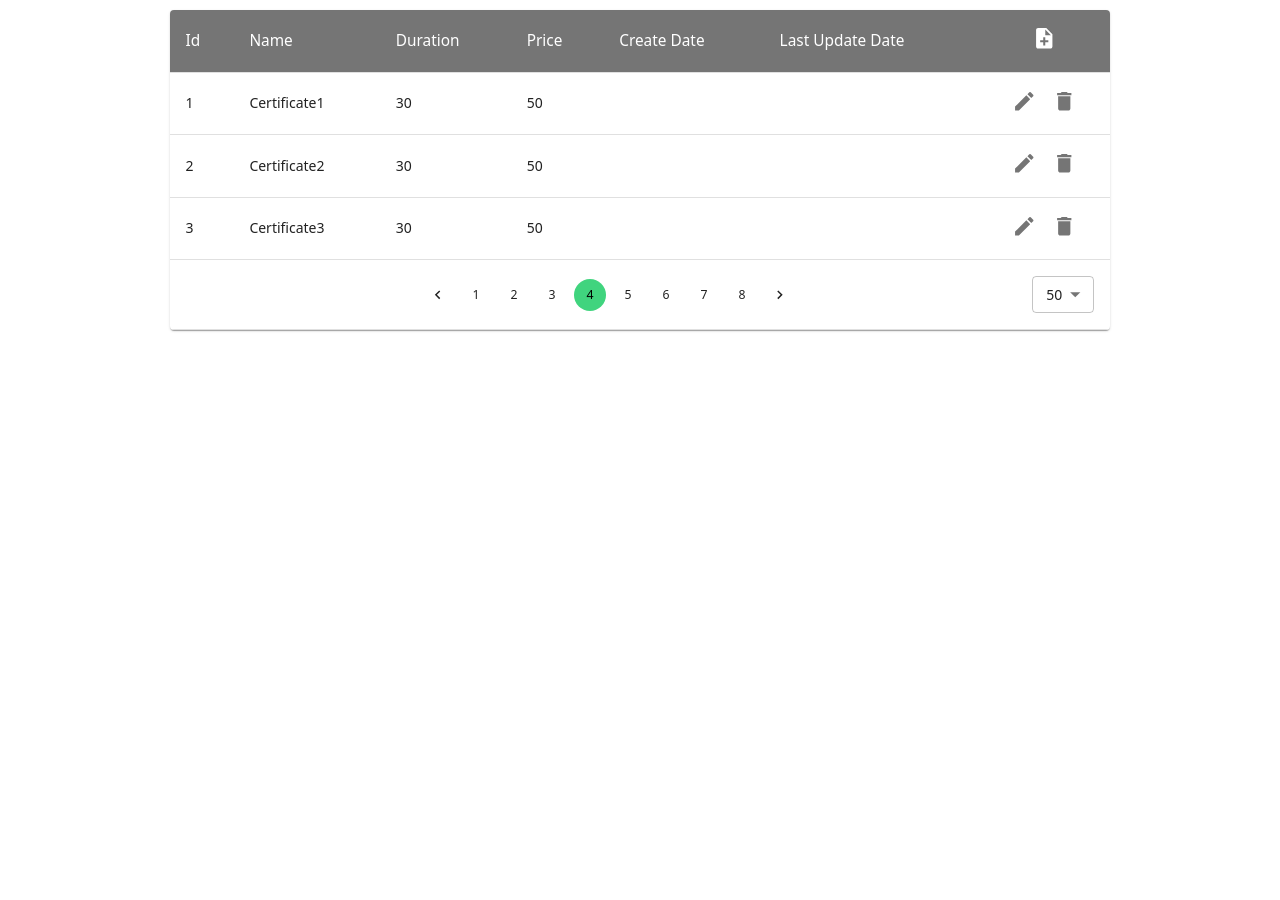
Test case: coupon list component › open create modal window
expect the text "Add New Certificate" is not shown: met
Click the icon with test id "NoteAddIcon" at (1044, 38), box [1032, 26, 1056, 50]
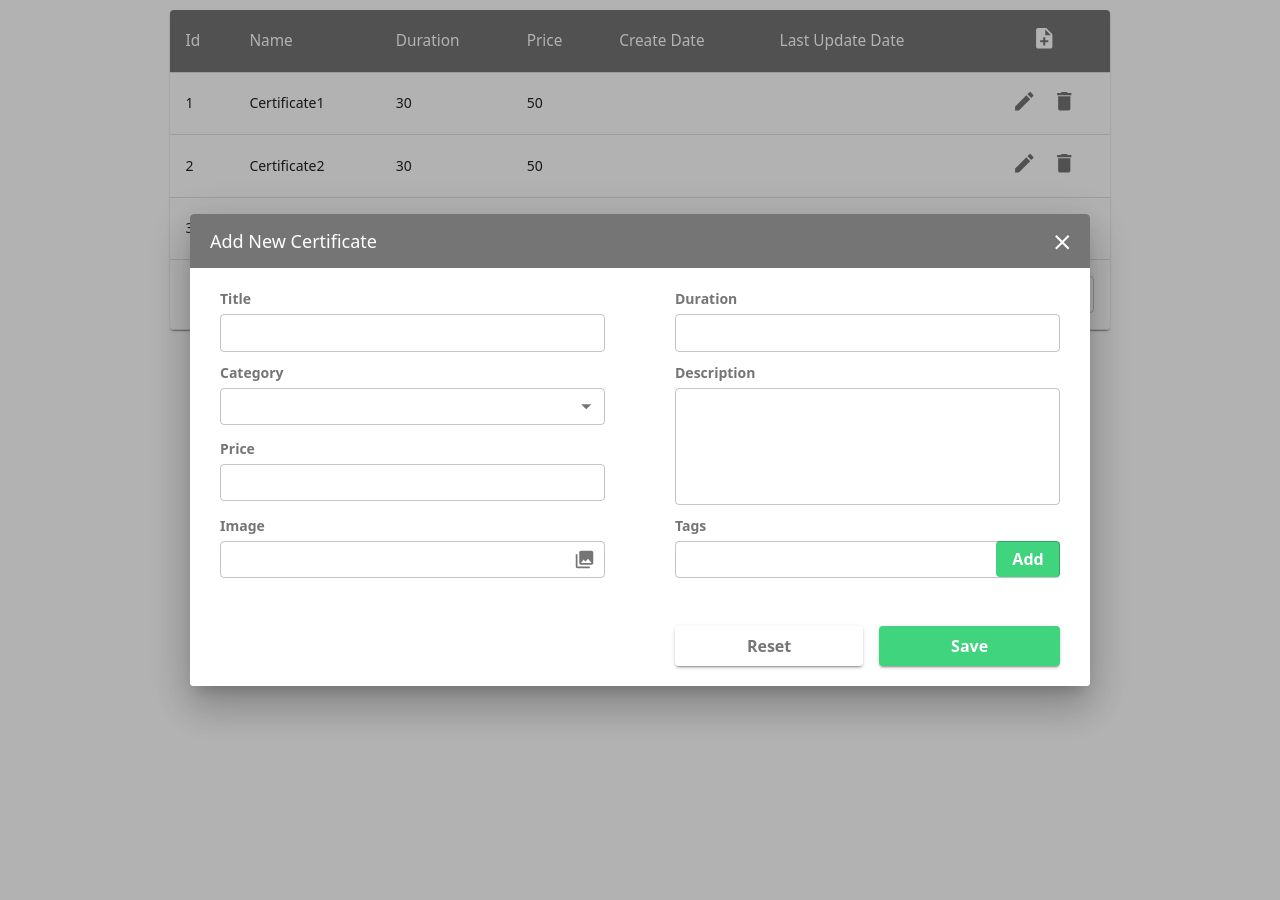
expect the text "Add New Certificate" is shown: met, box [210, 229, 377, 253]
